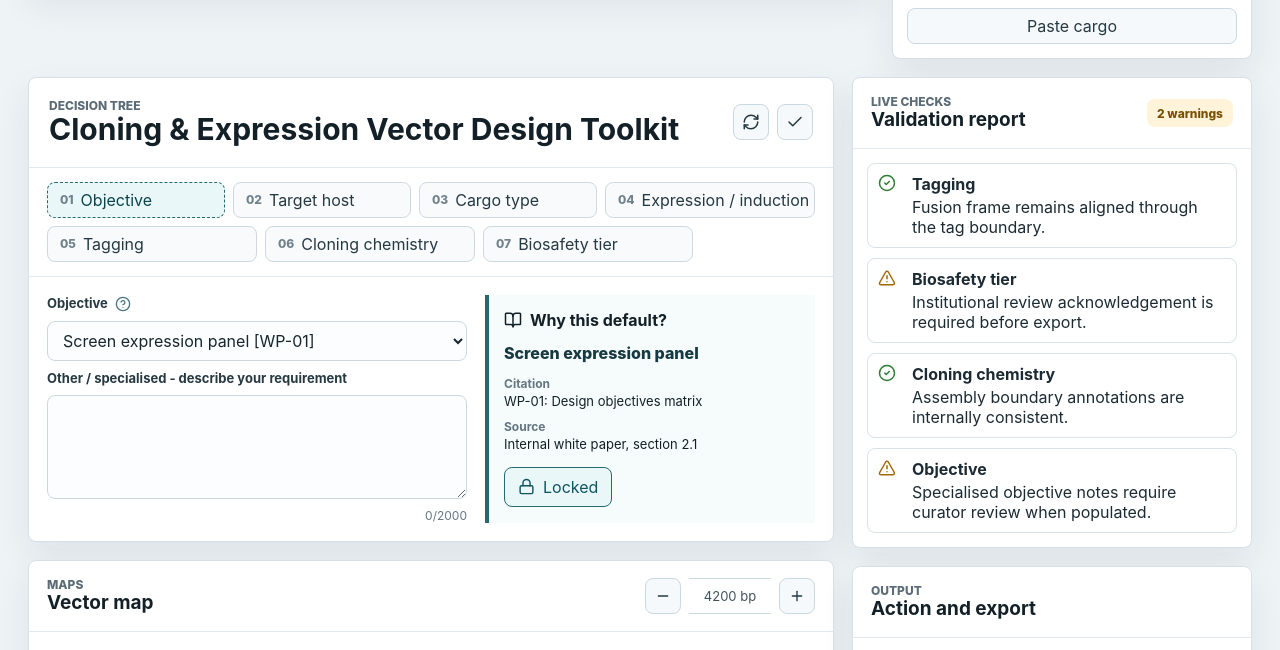
Test case: Vector design workspace › links validation findings back to wizard modules
(page scrolled)
Click the button "Biosafety tier Institutional review acknowledgement" at [1052, 300], box [867,258,1237,343]
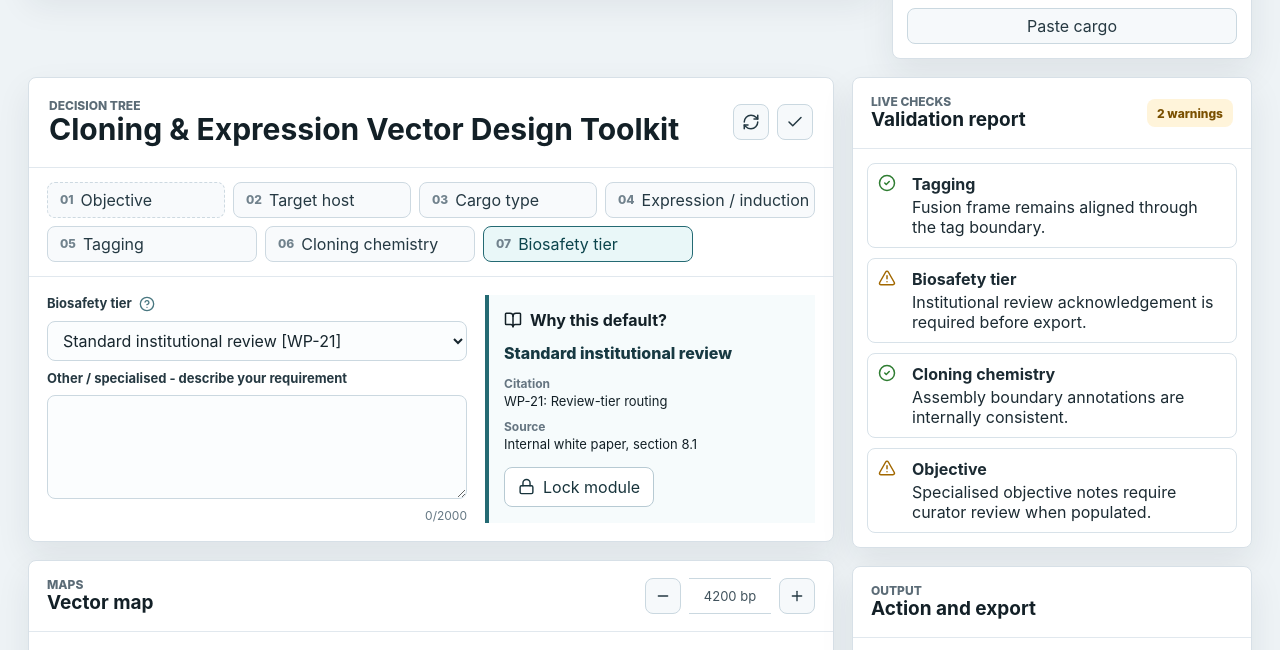
Result: the dropdown labelled "Biosafety tier" shows "Standard institutional review [WP-21]" at [47,321,467,361]
